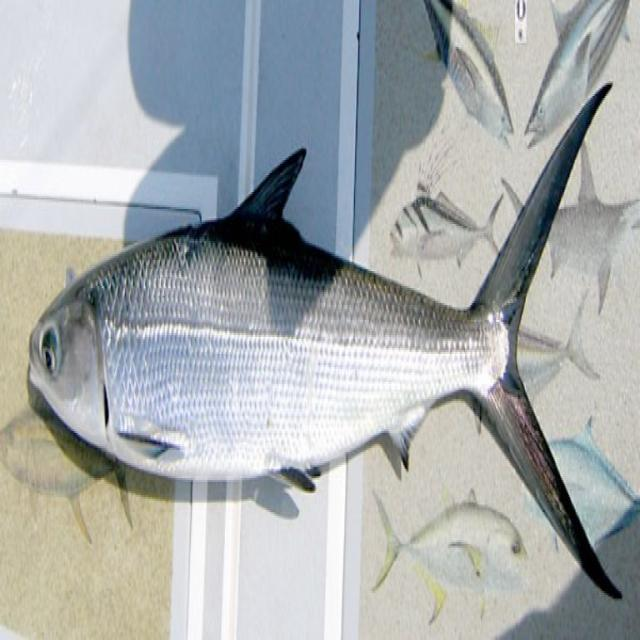Bangus: (16, 132, 640, 602)
